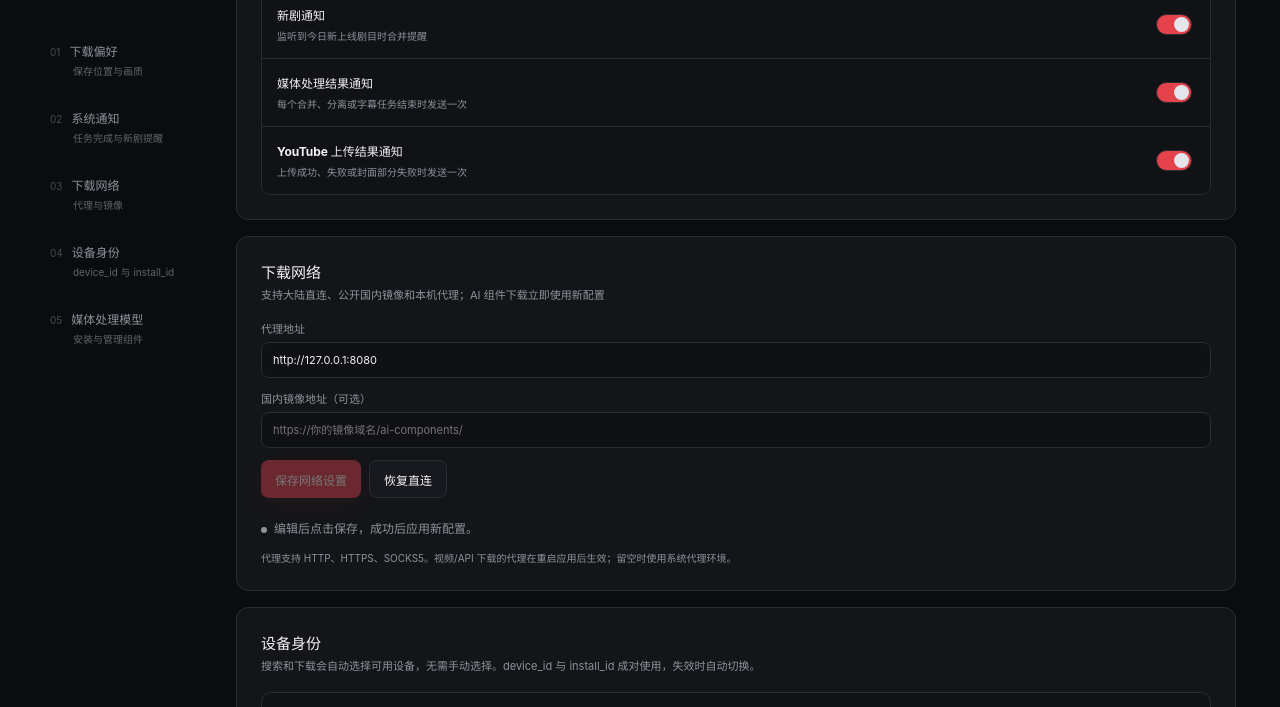
Scenario: settings save feedback › retains the failed draft and reports success only after retry is persisted
(page scrolled)
Replace the text in the field labelled "代理地址" with "http://127.0.0.1:7890" at (736, 360), box [261,342,1211,378]
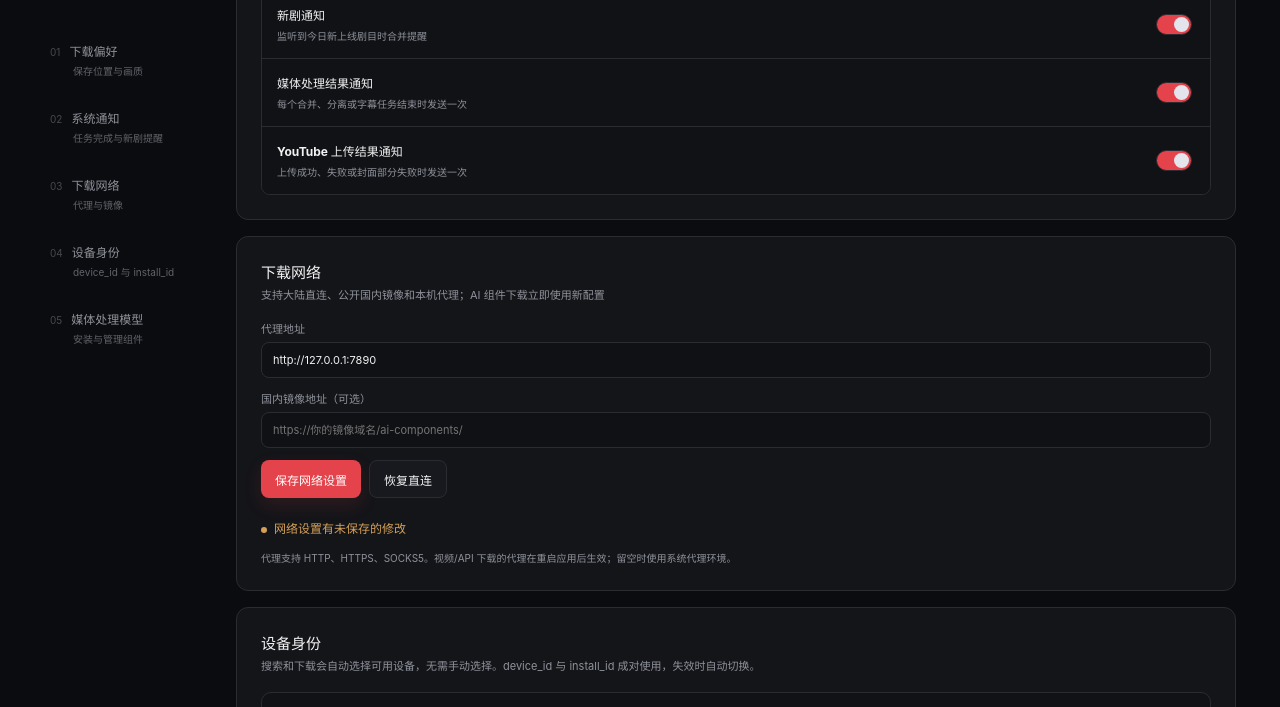
Click the button "保存网络设置" at (311, 479), box [261,460,361,498]
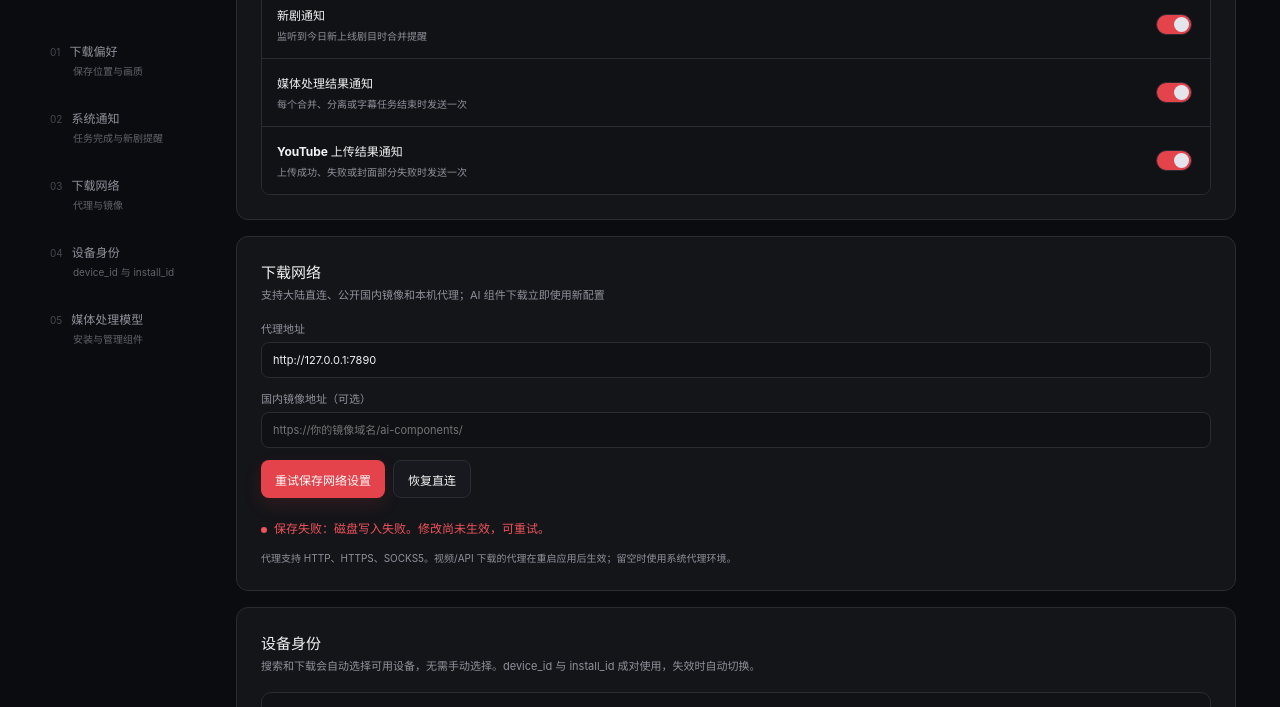
Expected: the text "网络设置已保存" is not shown
Expected: the message shows "磁盘写入失败", [274,521,550,536]
Click the button "重试保存网络设置" at (323, 479), box [261,460,385,498]
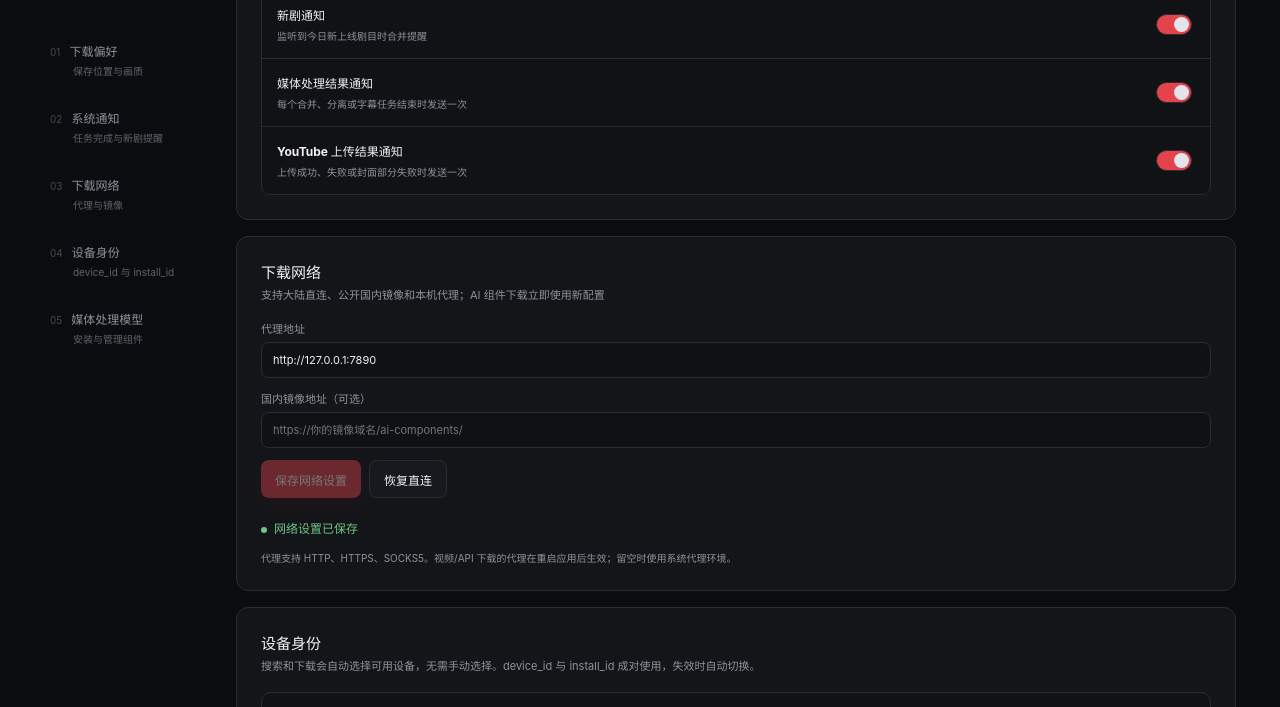
Expected: the text "网络设置已保存" is shown, [261,521,358,536]
